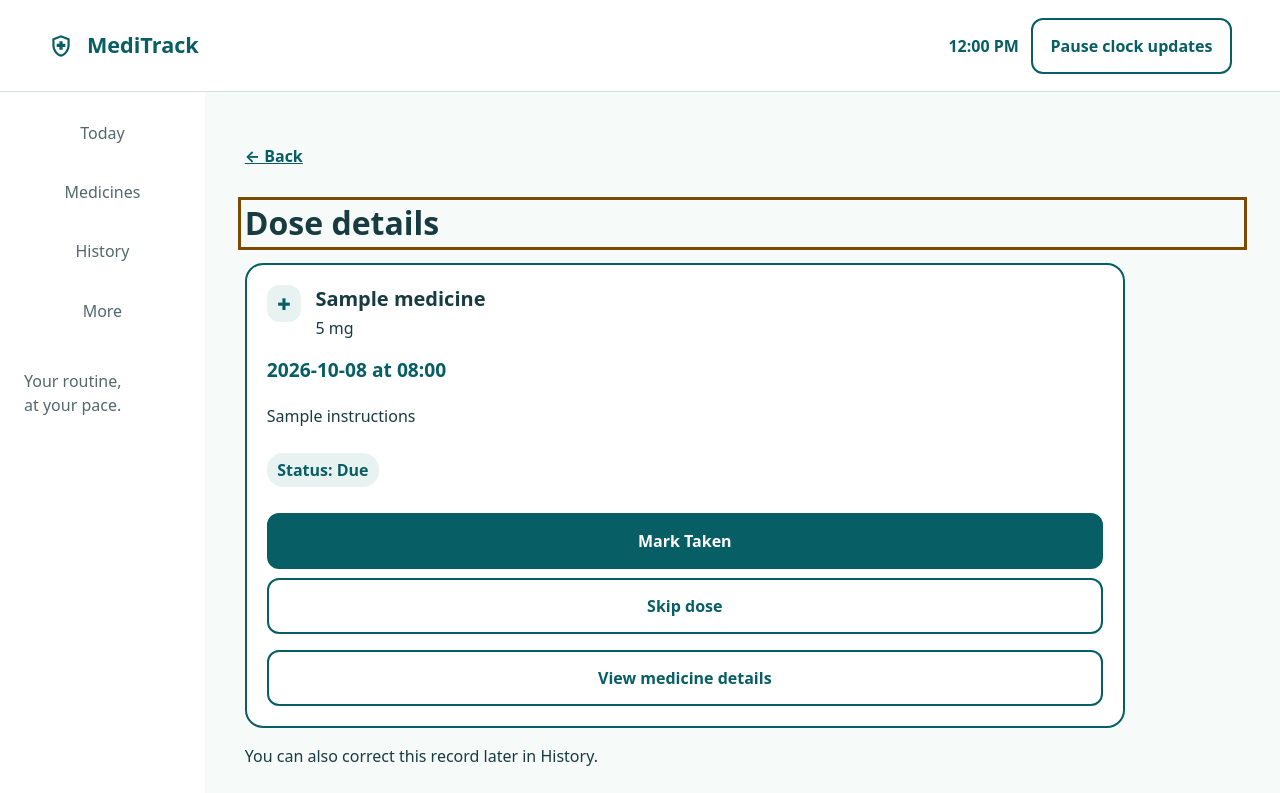
it: keeps Undo focus on surviving controls and preserves the newer history removal recovery
Click the button "Mark Taken" at (685, 541), box top-left (267, 513), bottom-right (1103, 569)
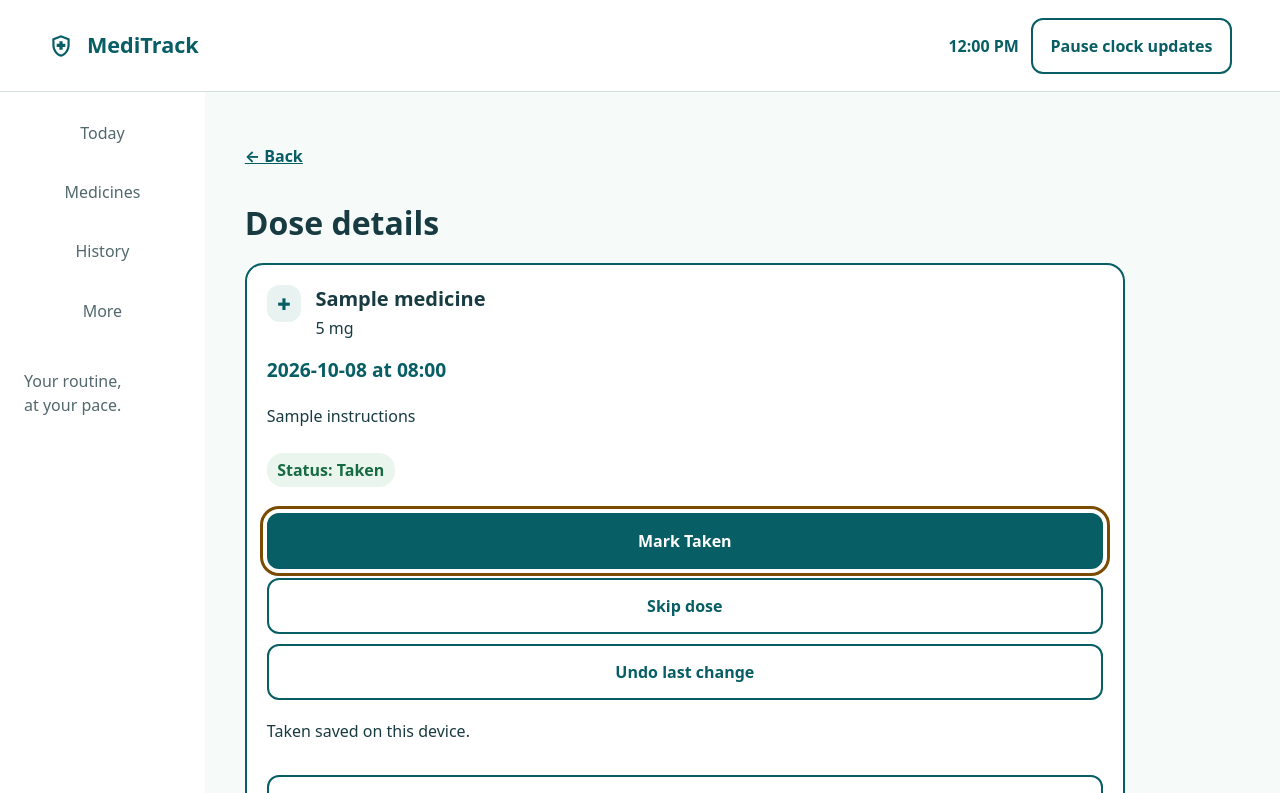
Click the button "Undo last change" at (685, 672), box top-left (267, 644), bottom-right (1103, 700)
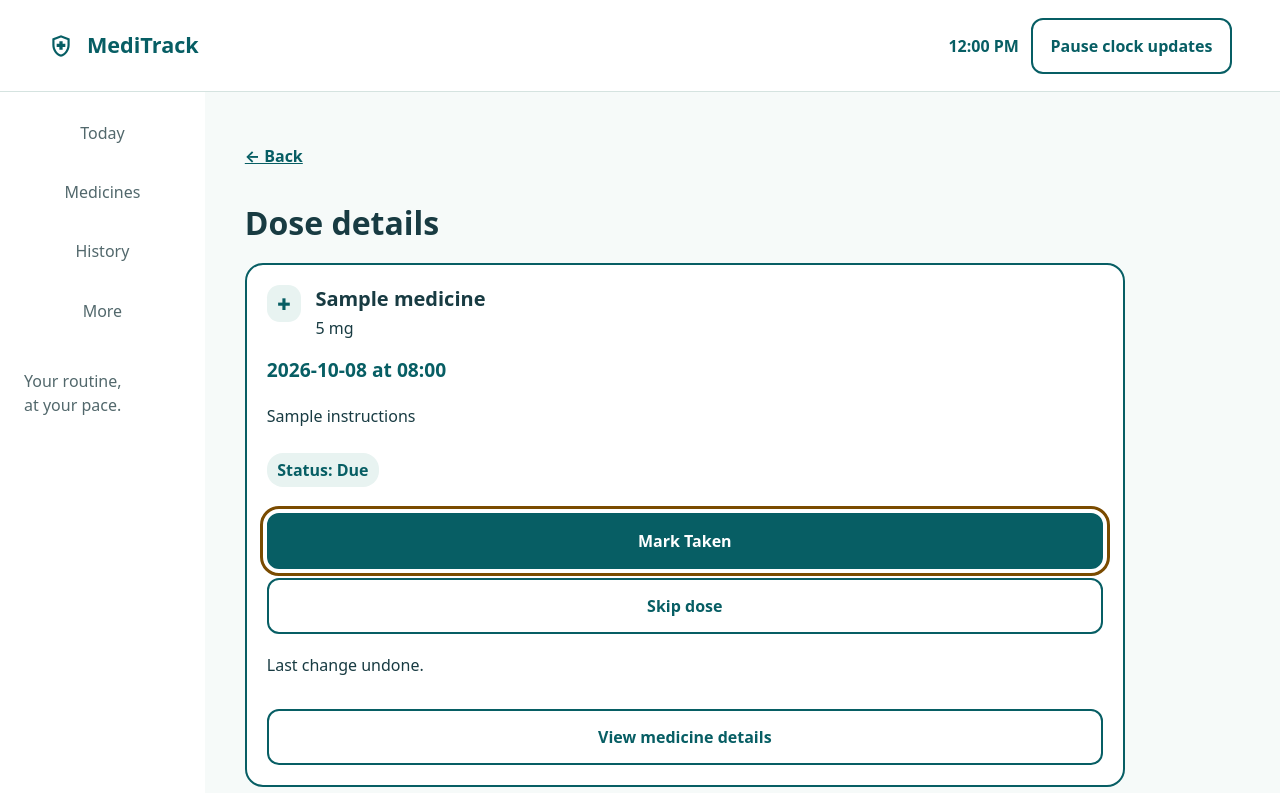
Click the button "Mark Taken" at (685, 541), box top-left (267, 513), bottom-right (1103, 569)
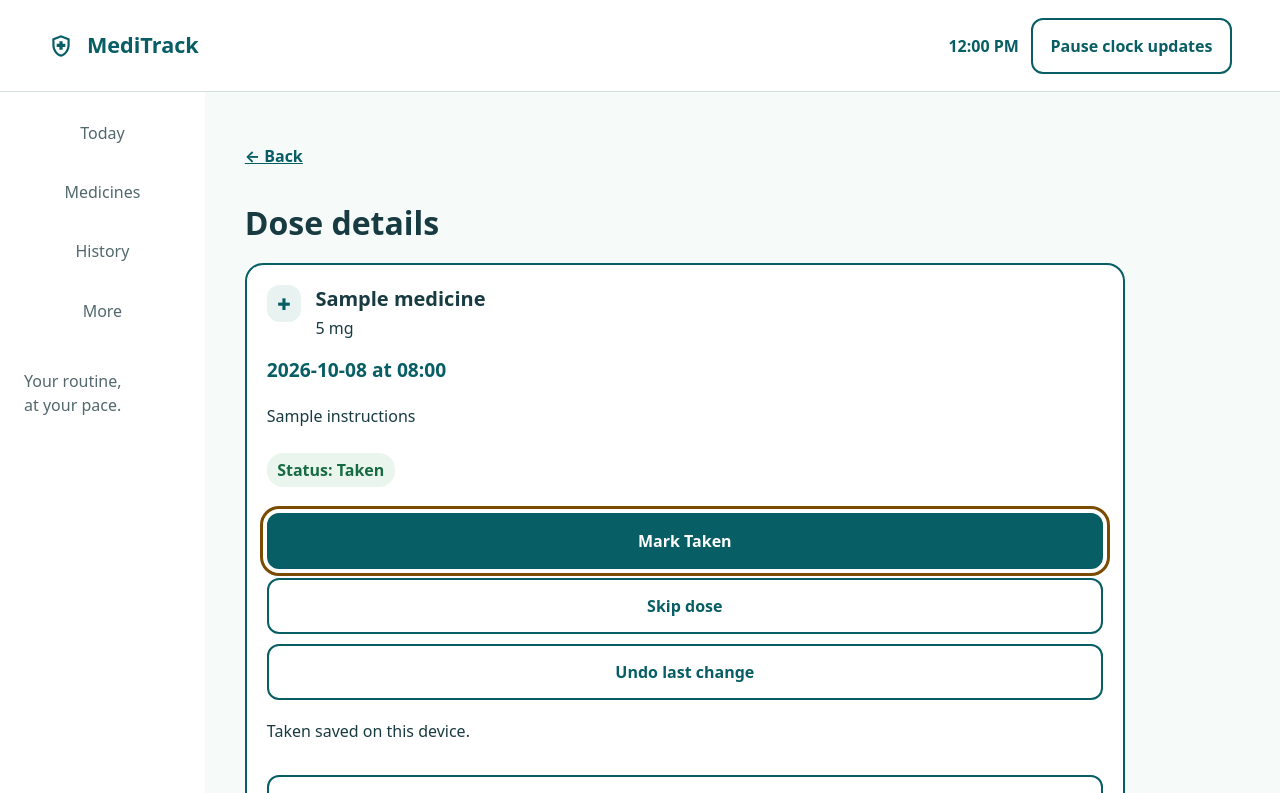
Click the link "History" at (102, 251), box top-left (76, 240), bottom-right (129, 262)
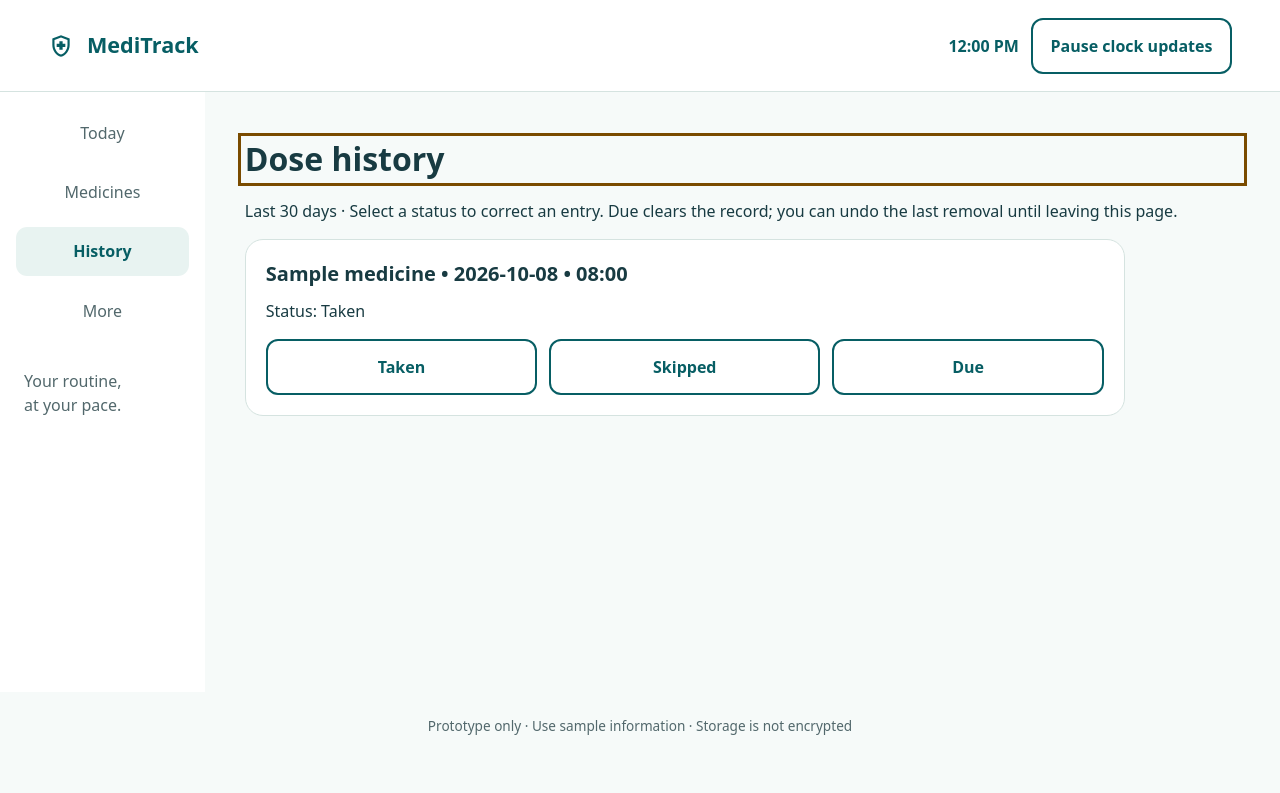
Click the button "Due" at (968, 367), box top-left (832, 339), bottom-right (1104, 395)
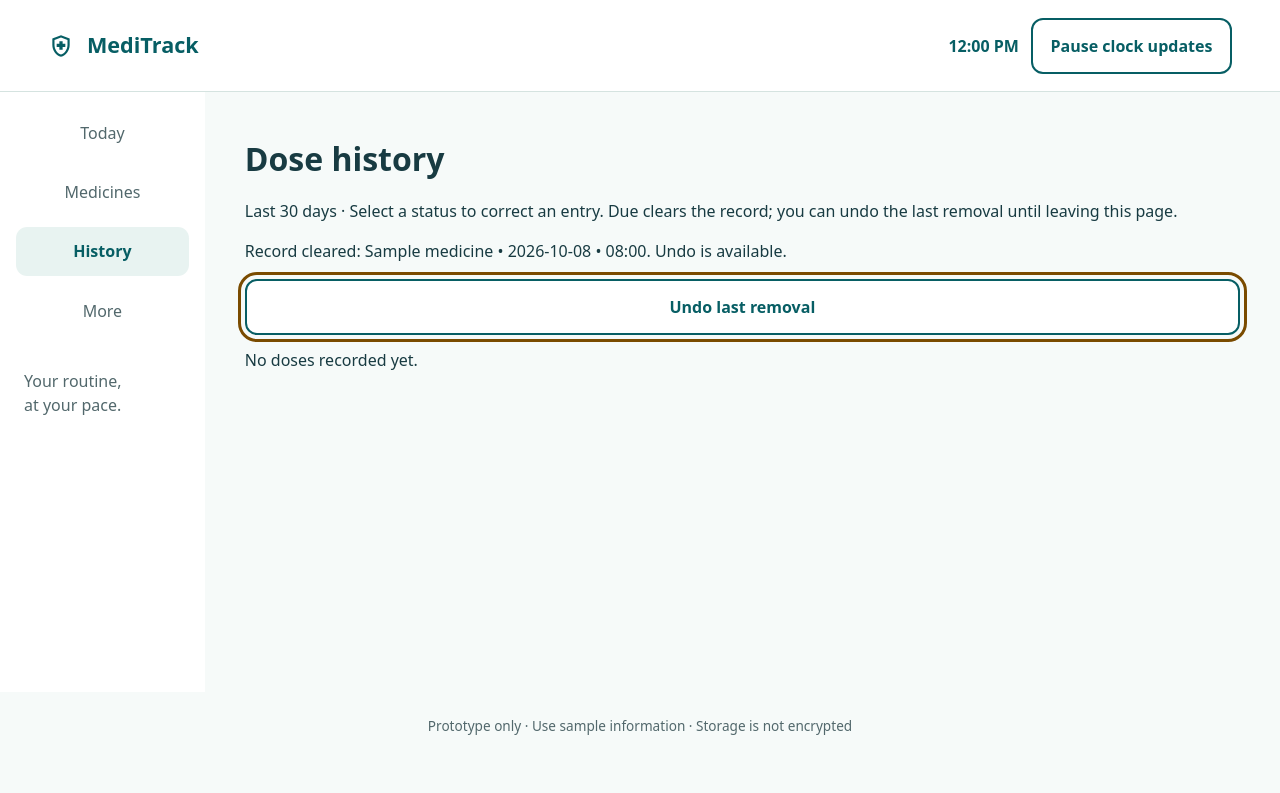
Result: the message shows "Record cleared" at top-left (245, 240), bottom-right (787, 262)
